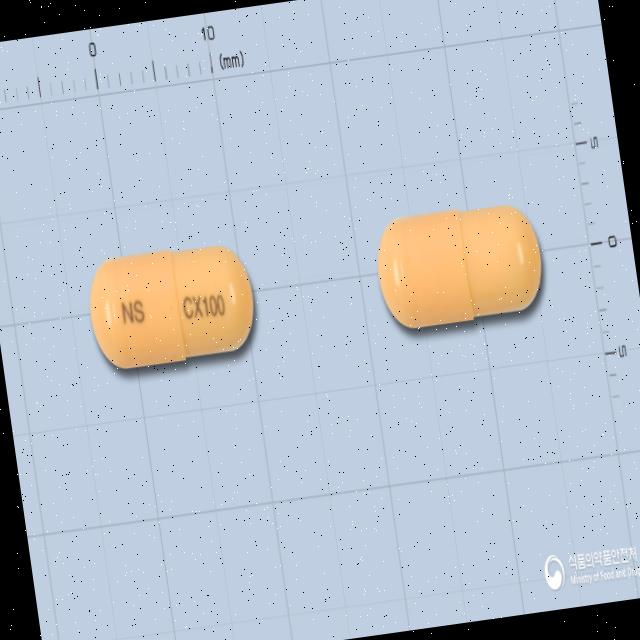Cefixime Cap- Nelson: (81, 232, 267, 382)
